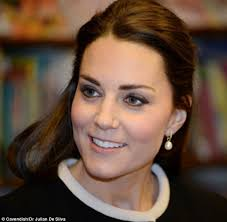n.sharp: (98, 91, 120, 135)
